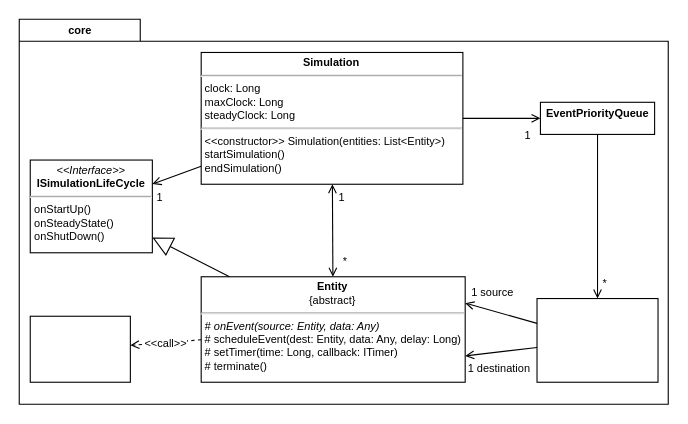
The diagram is 688 pixels wide and 424 high, and some of its shapes have lost their labels. The shapes that lost their labels are listed below. From the top down, each one's box as (x1, y1, x2, y2) in pixels, then its label:
(29, 315, 130, 382): <<Interface>> ITimer onTimerExpired()
(536, 297, 658, 382): <<dataClass>> Event eventNumber: Int occurenceTime: Long data: Any
